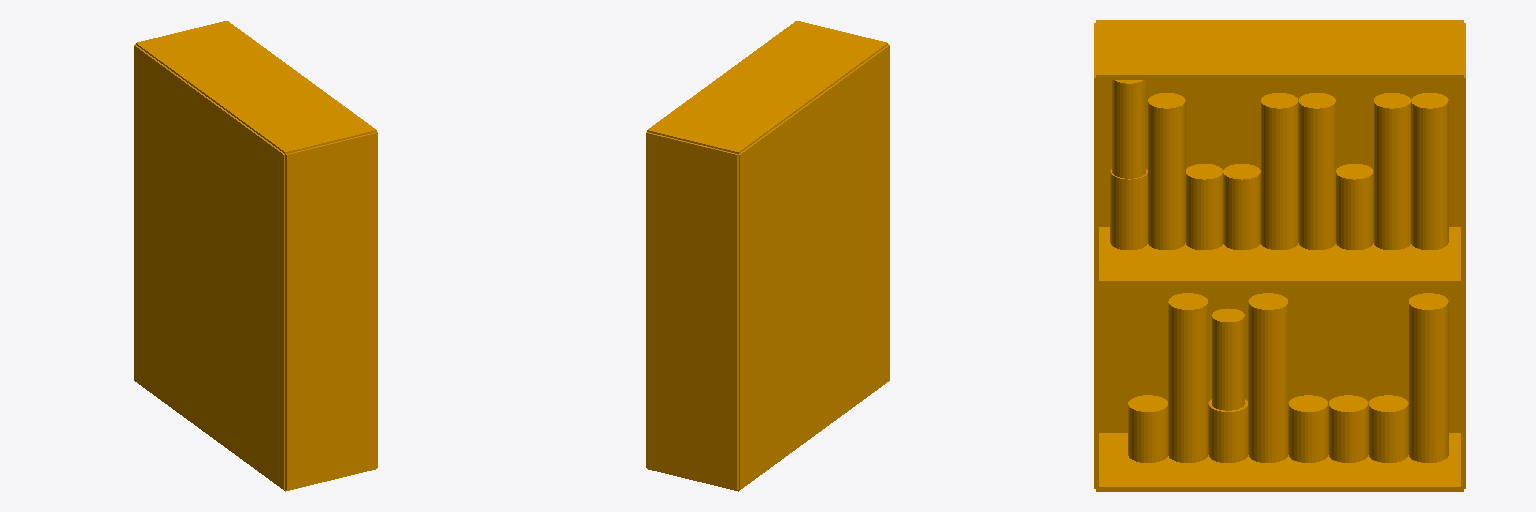
URDF robot description (syn_can_cabinet_packed_uniform_148):
<?xml version="1.0" ?>
<robot name="syn_can_cabinet_packed_uniform_148">
    <link concave="yes" name="base_link">
        <inertial>
            <origin rpy="0 0 0" xyz="0 0 0"/>
            <mass value="0.0"/>
            <inertia ixx="1e-08" ixy="0" ixz="0" iyy="1e-08" iyz="0" izz="1e-08"/>
        </inertial>
        <visual>
            <origin xyz="0 0 0" rpy="0 0 0" />
            <geometry>
                <mesh filename="syn_can_cabinet_packed_uniform_148.obj" scale="1.000000 1.000000 1.000000"/>
            </geometry>         
        </visual>

        <collision concave="yes">
            <origin xyz="0 0 0" rpy="0 0 0"/>
            <geometry>
                <mesh filename="syn_can_cabinet_packed_uniform_148.obj" scale="1.000000 1.000000 1.000000"/>
            </geometry>
        </collision>
    </link>
</robot>
    

--- Render facts (derived) ---
3 views of the same robot in one strip: view 1: azimuth 30°, elevation 25°; view 2: azimuth 150°, elevation 25°; view 3: azimuth 270°, elevation 25° (orthographic).
Robot: syn_can_cabinet_packed_uniform_148 — 1 links, 0 joints (none); root link base_link; default pose: every joint at zero.
Links seen in each view (by area): view 1: base_link; view 2: base_link; view 3: base_link.
Link boxes in pixels (box(x1,y1,x2,y2)): base_link: box(134, 21, 377, 491); base_link: box(646, 21, 889, 491); base_link: box(1094, 20, 1465, 491).
Bounding box of the posed robot: 0.1638 × 0.4617 × 0.5687 m (x, y, z).
Meshes: 1 distinct files referenced, 1 mesh visuals loaded (1 OBJ).
